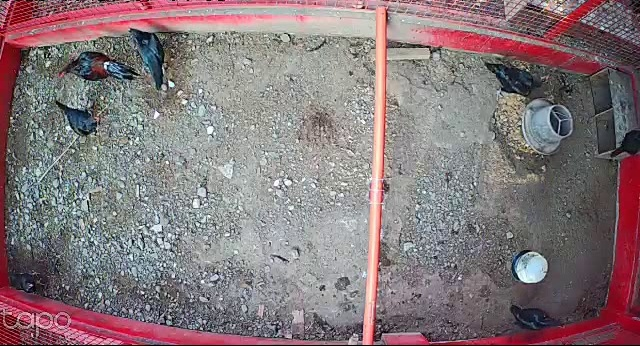Chicken: (482, 58, 551, 104), (126, 25, 170, 93), (53, 97, 102, 137), (507, 302, 566, 331), (11, 267, 52, 297)
Drinker: (509, 248, 551, 287)
Feeder: (522, 95, 572, 154)
Rooster: (56, 46, 144, 86)
